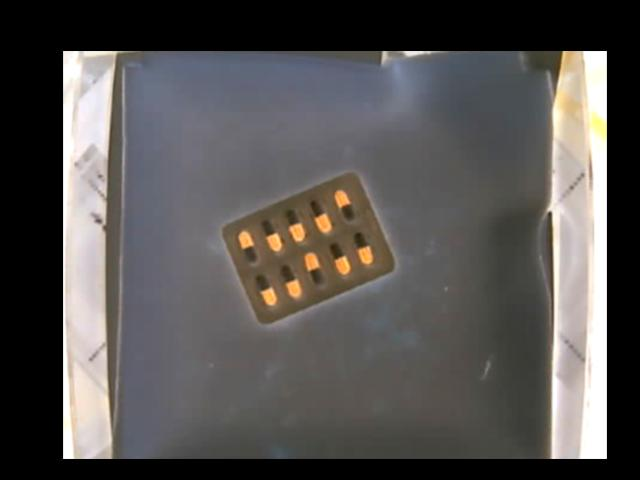Medicine: (220, 174, 399, 320)
